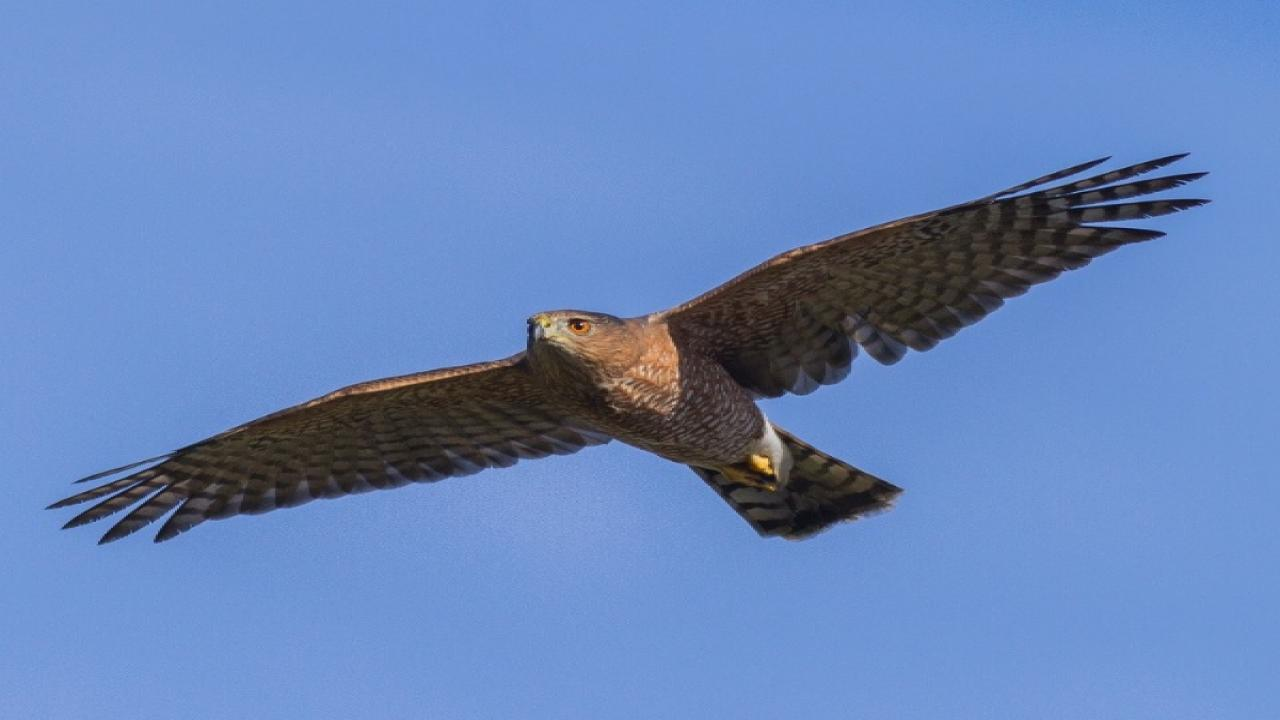Bird: (38, 145, 1224, 553)
